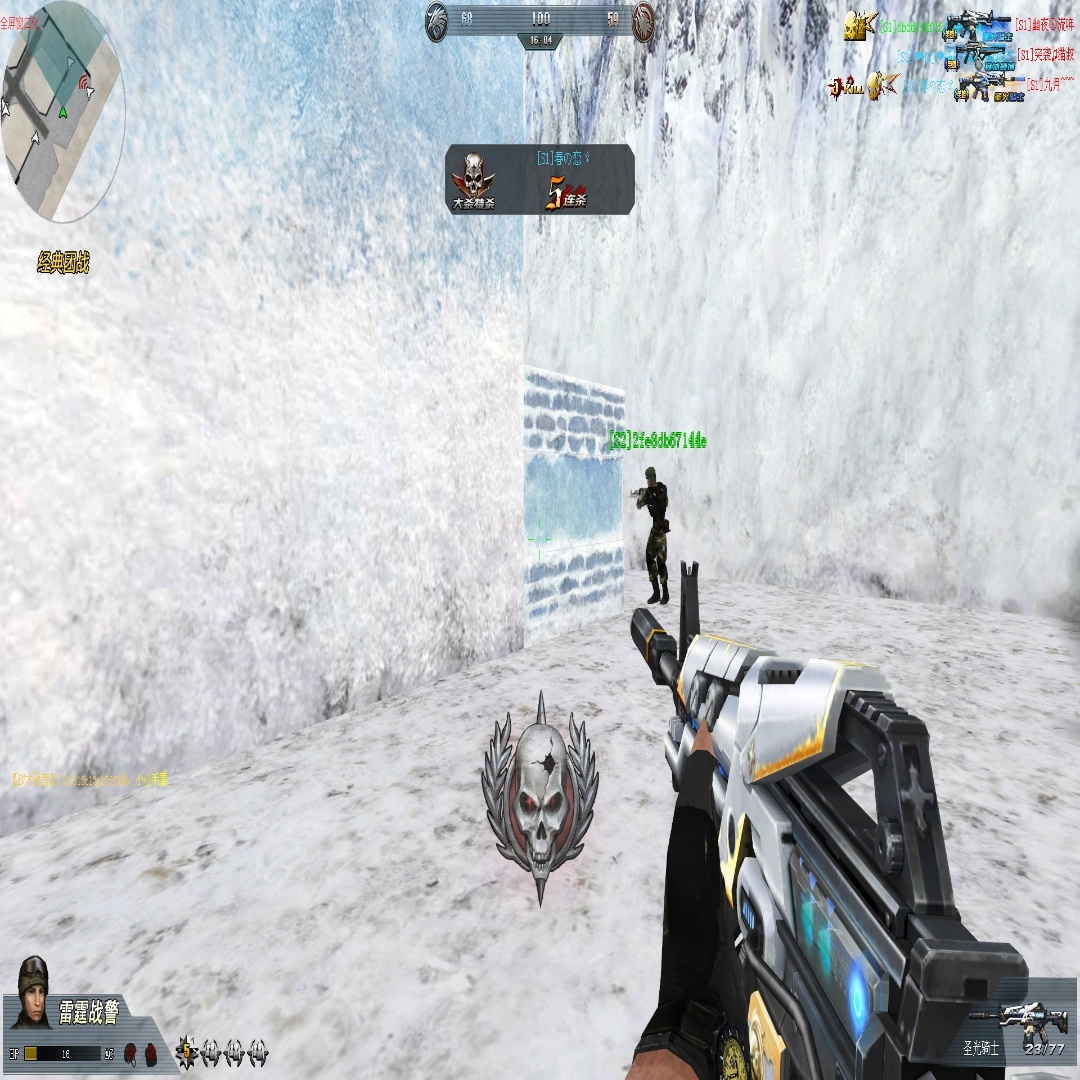t: (632, 465, 670, 605)
